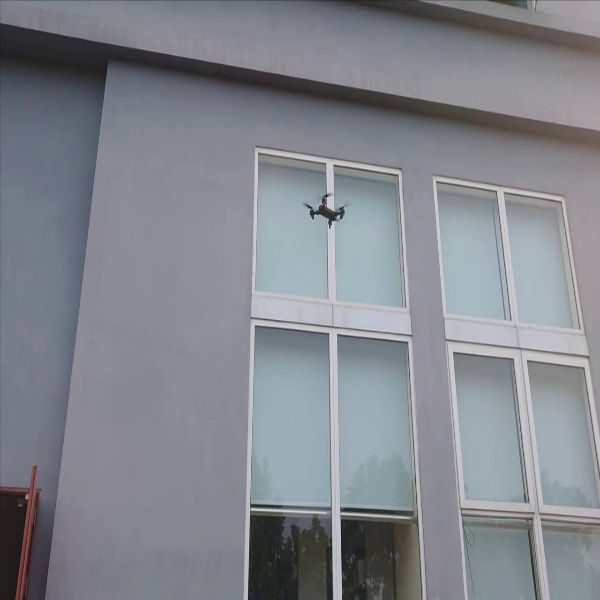drone: (301, 184, 351, 227)
